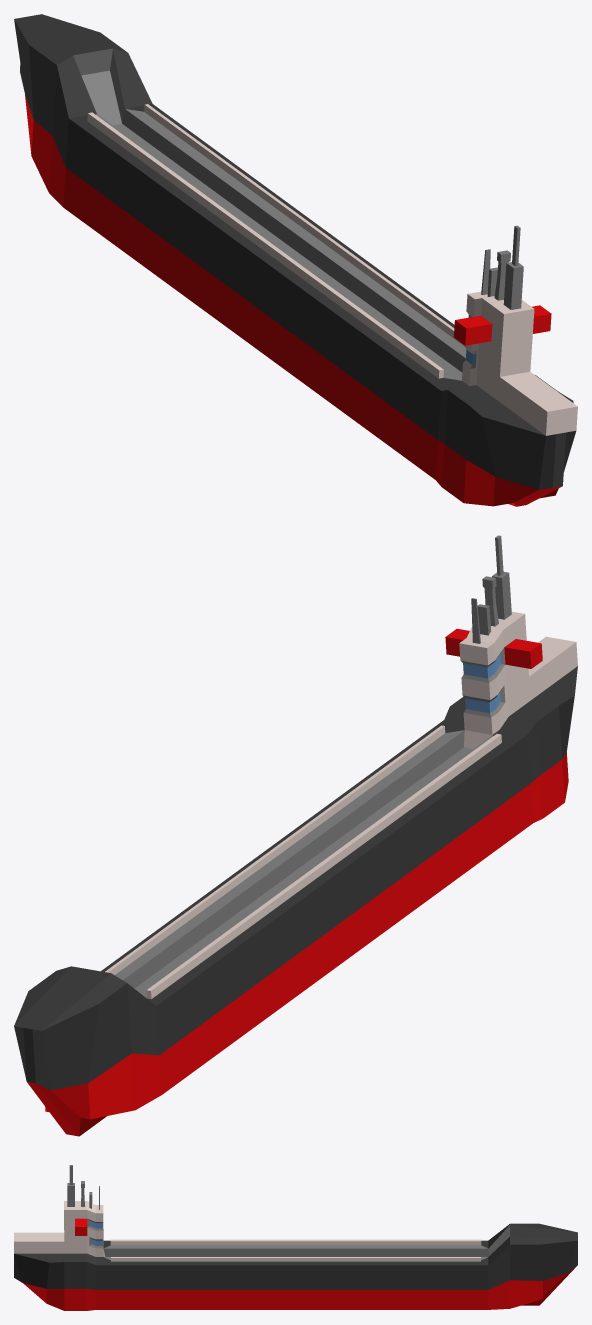
Rendered from Freighter.fbx.
3 views of the same model, one above another, from view 1: azimuth 30°, elevation 25°; view 2: azimuth 150°, elevation 25°; view 3: azimuth 270°, elevation 25° (orthographic). The views are drawn at different scales.
Parts seen in each view (by area): view 1: Cube; view 2: Cube; view 3: Cube.
Boxes of the visible parts, left/top/right/bottom form: Cube: left=14, top=14, right=577, bottom=506; Cube: left=14, top=535, right=577, bottom=1136; Cube: left=14, top=1165, right=577, bottom=1310.
Bounding box in the file's own units: 234 × 618 × 2206.
